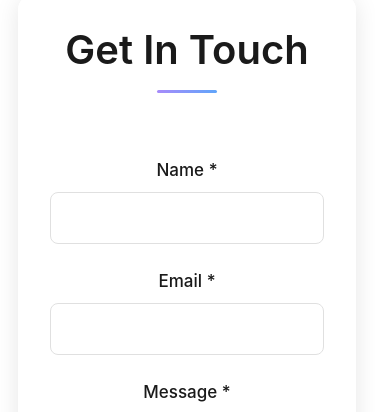
Scenario: ContactSection › Validation › shows error on blur when email is empty
Click the field labelled "Email *". click: coordinates (187, 329)
box: [50,303,324,355]
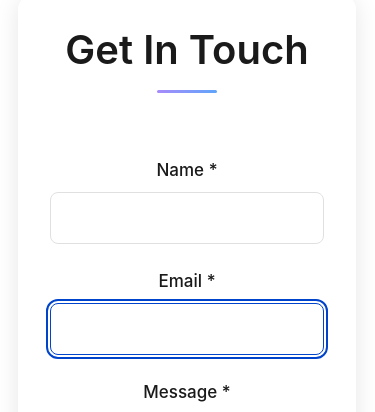
Press Tab
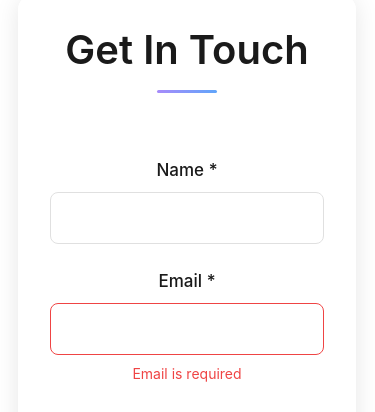
Expected: the message reads "Email is required", [132,365,242,382]
